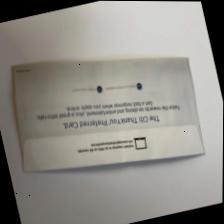paper: (0, 5, 215, 206)
